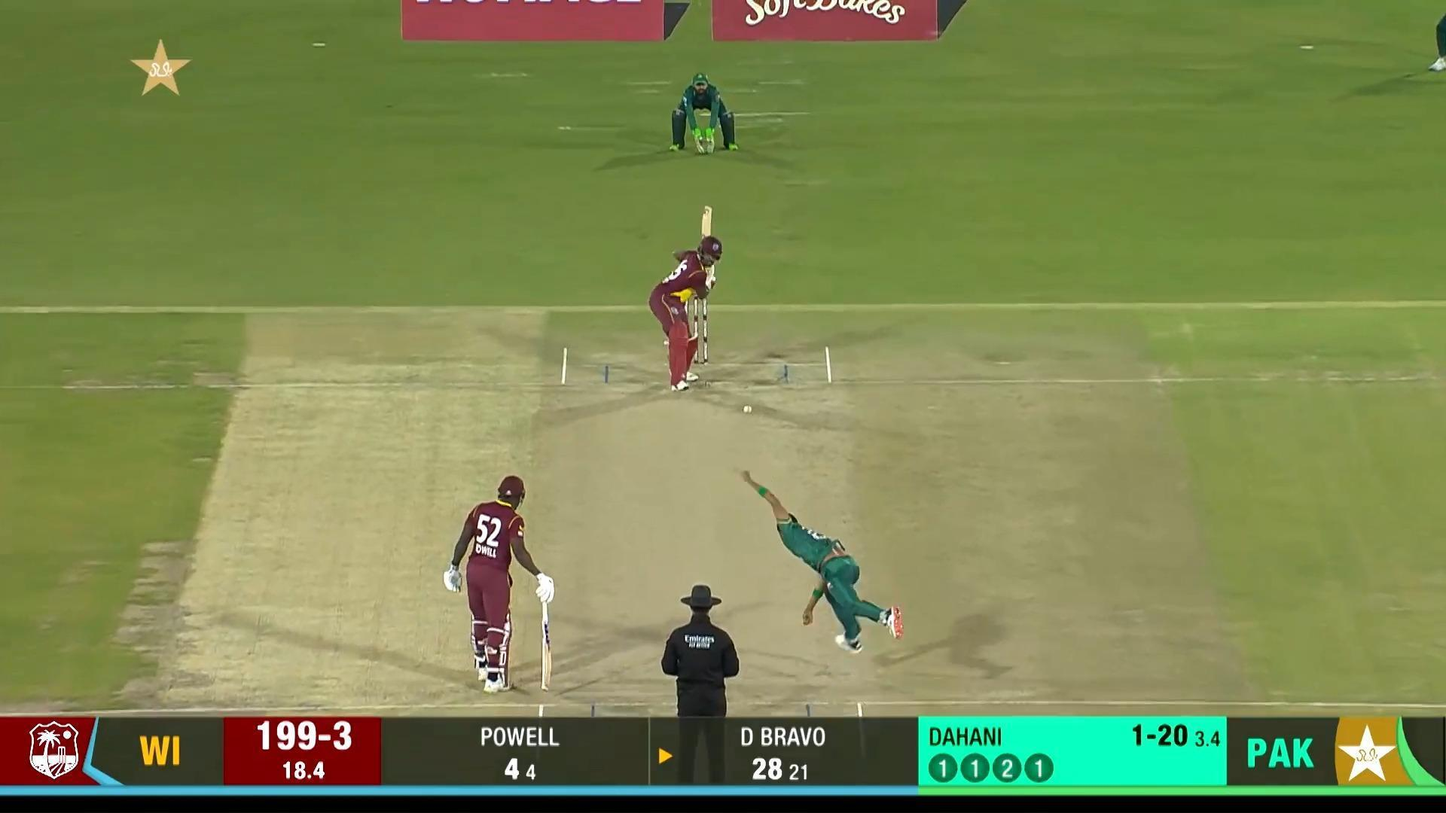BM 1: (648, 201, 723, 394)
BO: (742, 470, 903, 654)
